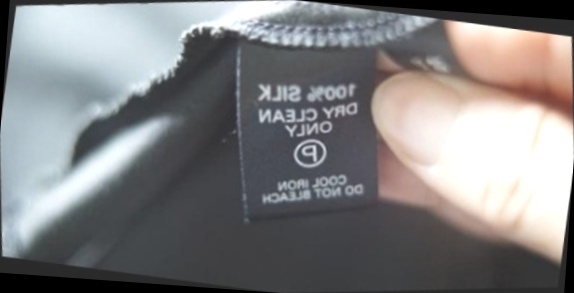dry_clean_any_solvent_except_trichloroethylene: (287, 131, 332, 174)
